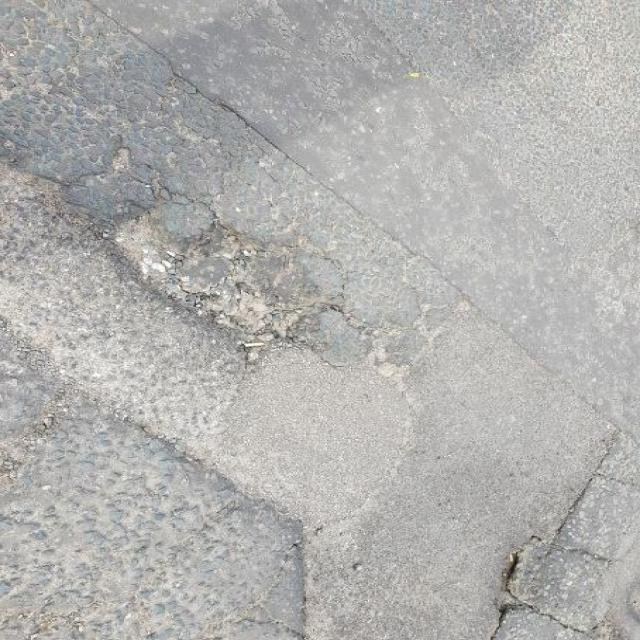Pothole: (86, 181, 365, 368)
